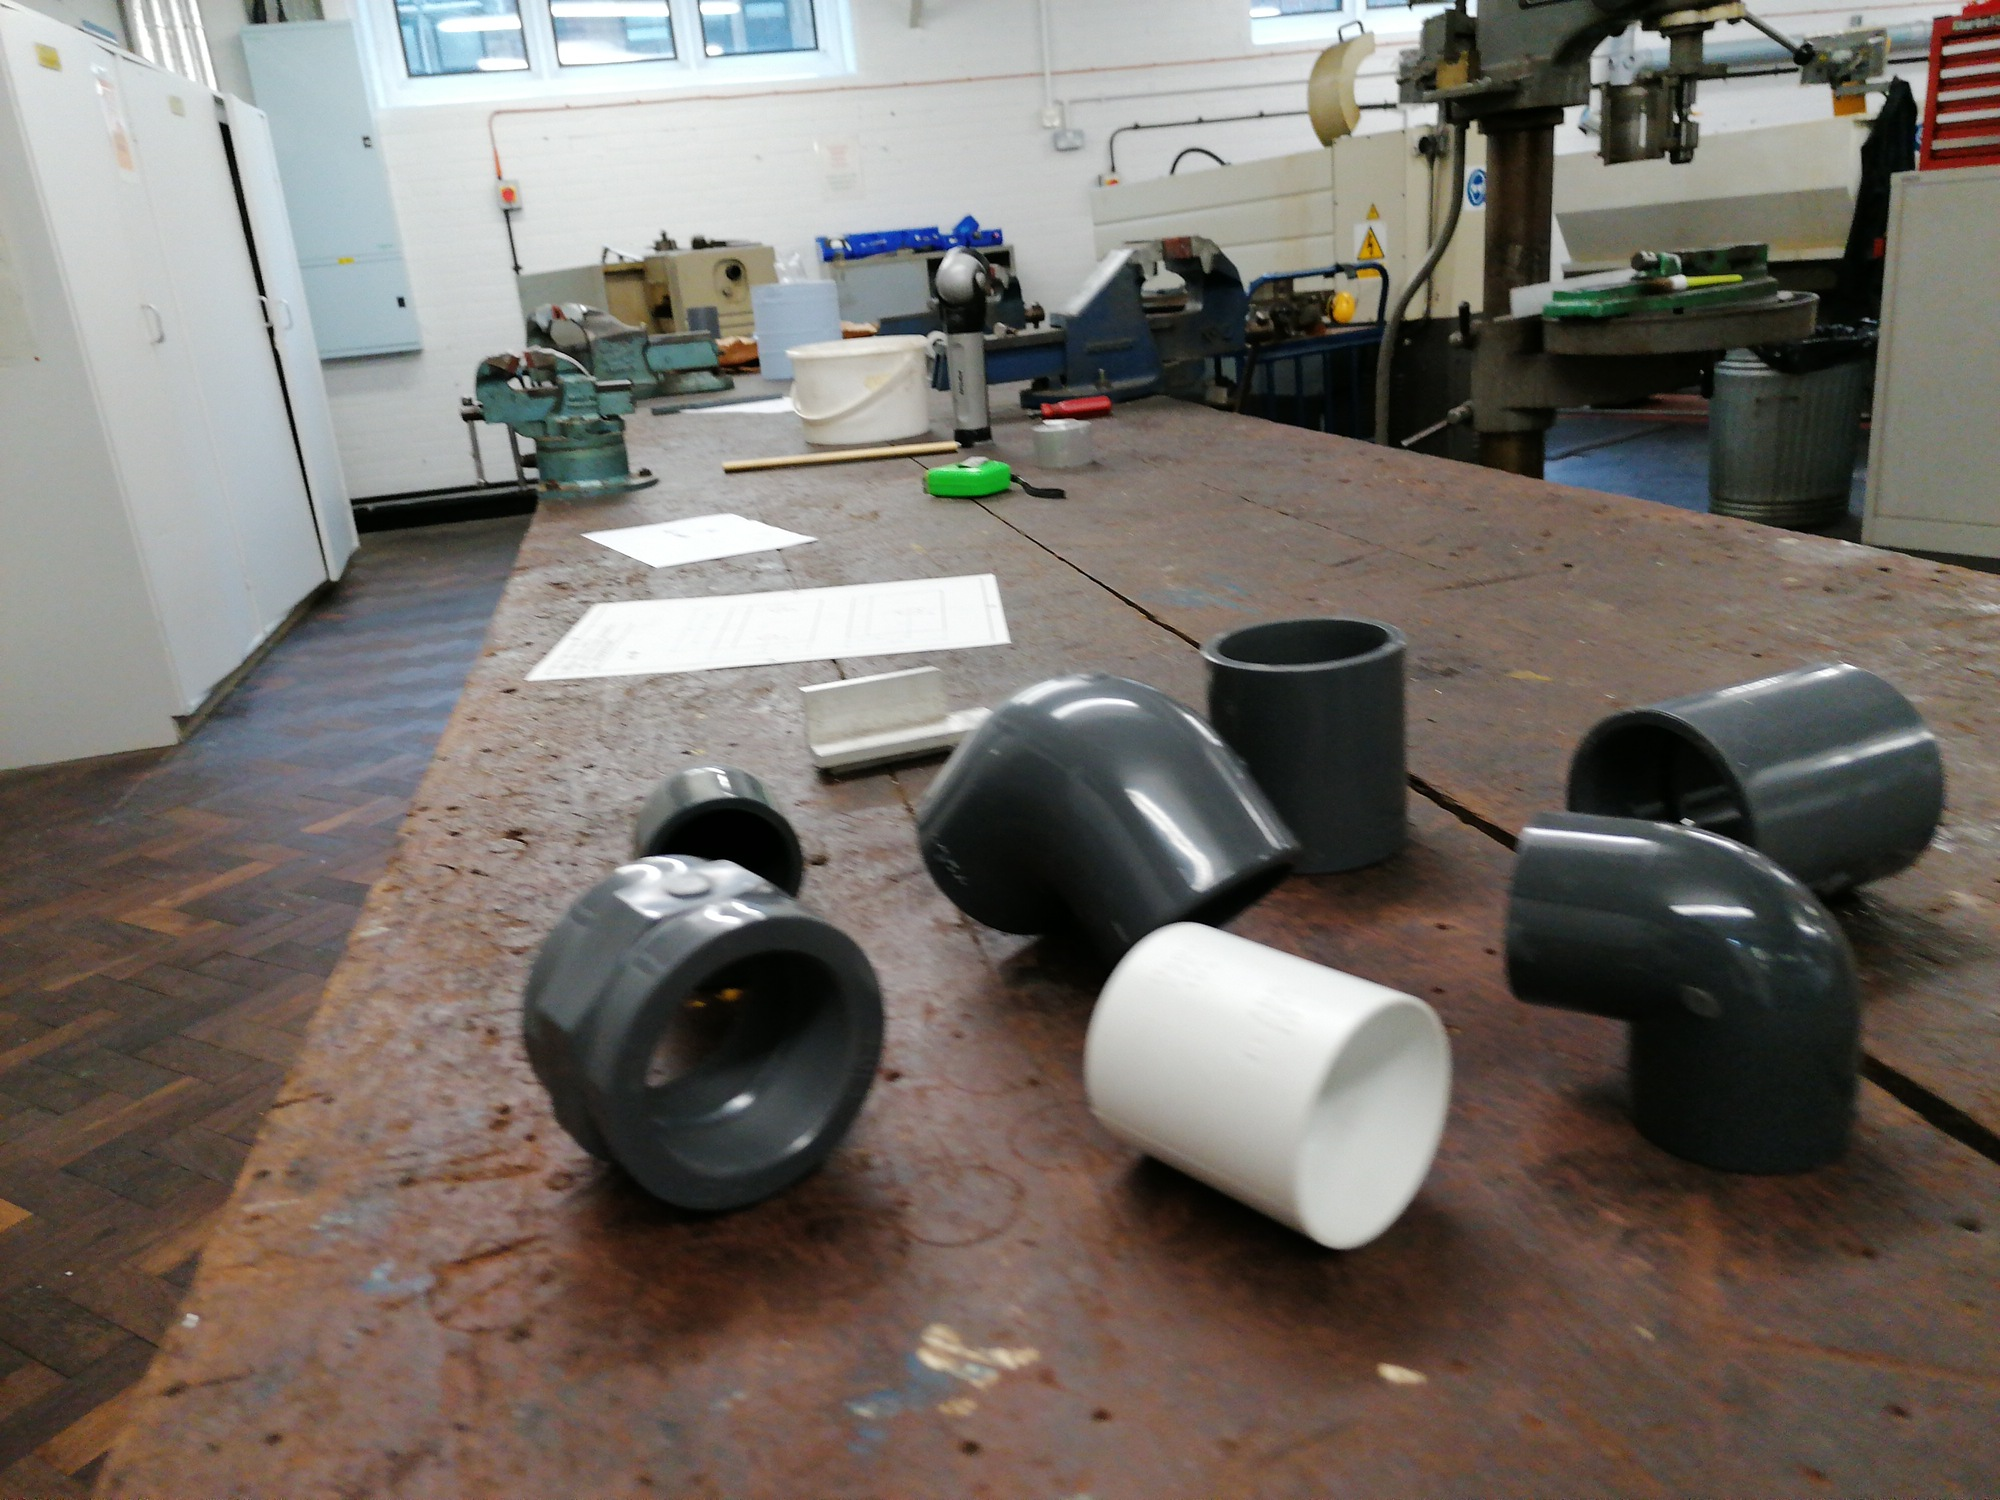nut: (521, 852, 890, 1220)
pipe: (1499, 808, 1871, 1185), (1083, 920, 1460, 1253), (910, 666, 1301, 974), (1562, 657, 1948, 889), (1197, 608, 1414, 874), (627, 759, 806, 904)
